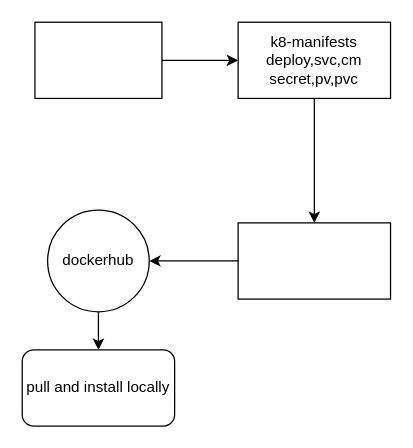
Some shapes in this 413 by 448 pixel diagram are drawn without their labels. The centre of each missing label's shape, as x and y in pixels:
"helm charts" belongs at pixel 314 260.
"k8-manifests pods+svc" belongs at pixel 98 59.
